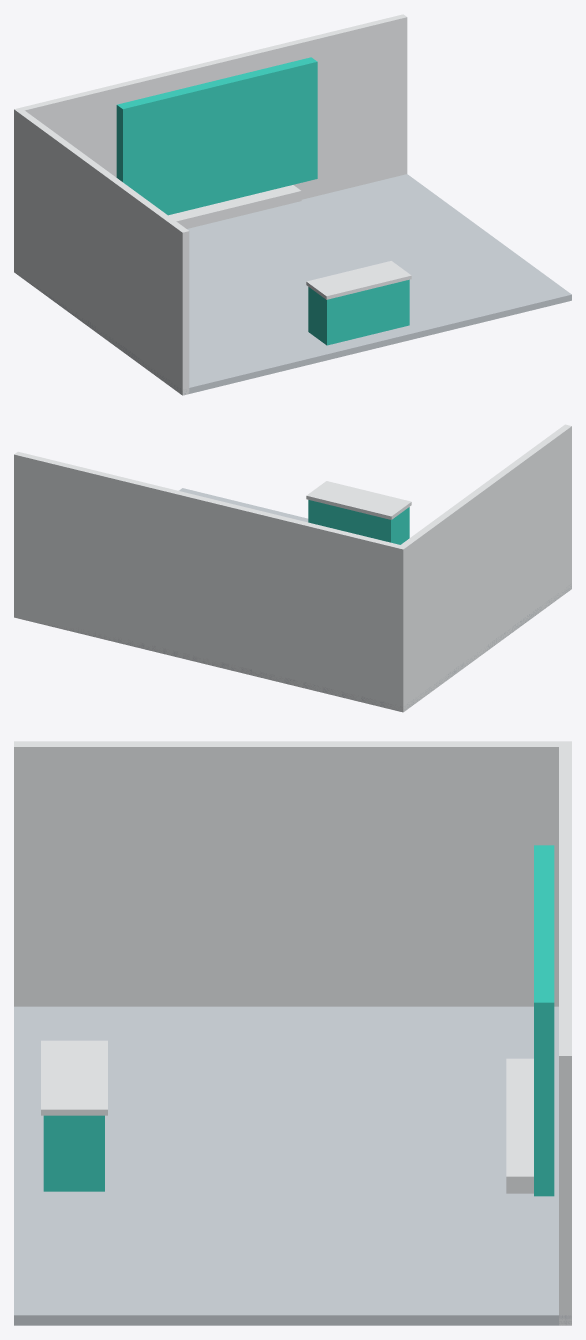
3 renders of one model, top to bottom at view 1: azimuth 30°, elevation 25°; view 2: azimuth 150°, elevation 25°; view 3: azimuth 270°, elevation 25°, orthographic. The views are drawn at different scales.
Visible parts, largest first — view 1: Exhibition Booth Concept; view 2: Exhibition Booth Concept; view 3: Exhibition Booth Concept.
Boxes of the visible parts, bbox=[...] form: Exhibition Booth Concept: bbox=[14, 14, 571, 395]; Exhibition Booth Concept: bbox=[14, 424, 571, 712]; Exhibition Booth Concept: bbox=[14, 741, 571, 1325].
Size of the model in its own units: 8 by 3.2 by 6.
